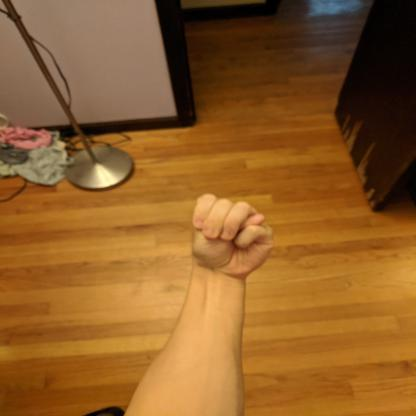M: (182, 191, 278, 280)
